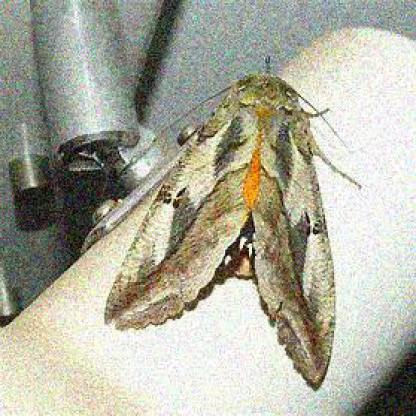fruit sucking moth: (101, 68, 337, 385)
